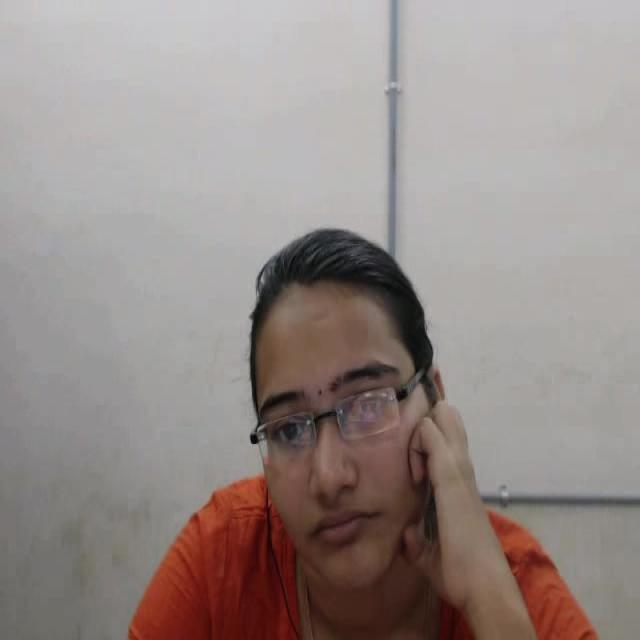Bored: (208, 211, 477, 591)
